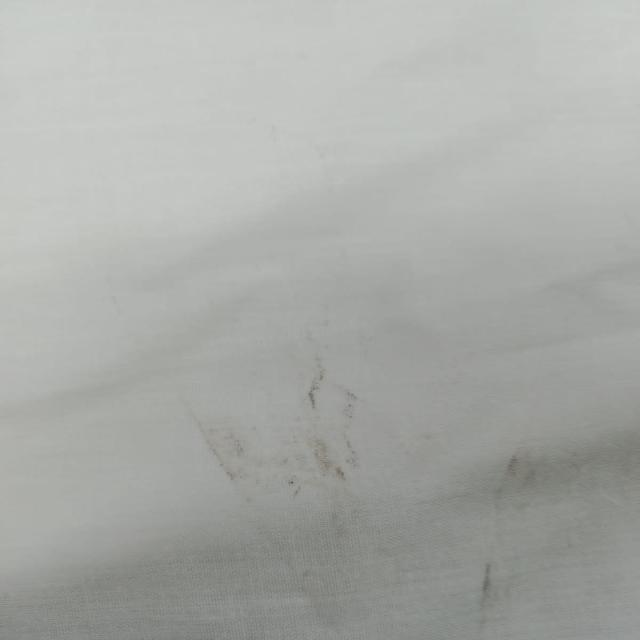stain: (161, 342, 411, 526), (457, 415, 622, 622)
